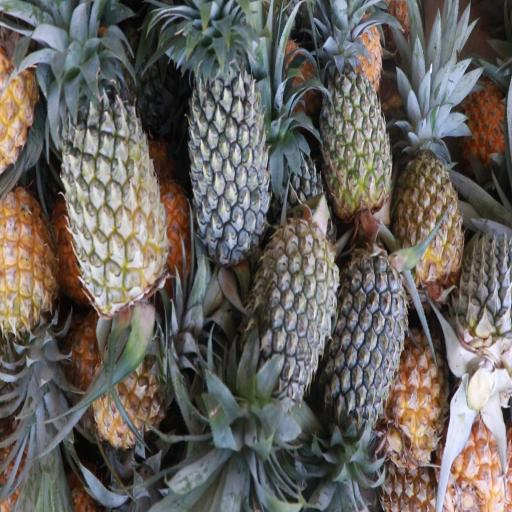------------------------------: (64, 73, 162, 311), (323, 36, 392, 219)
Pineapple - v8 v1: (93, 320, 192, 448), (395, 120, 469, 284), (0, 188, 59, 390), (391, 329, 454, 474)
